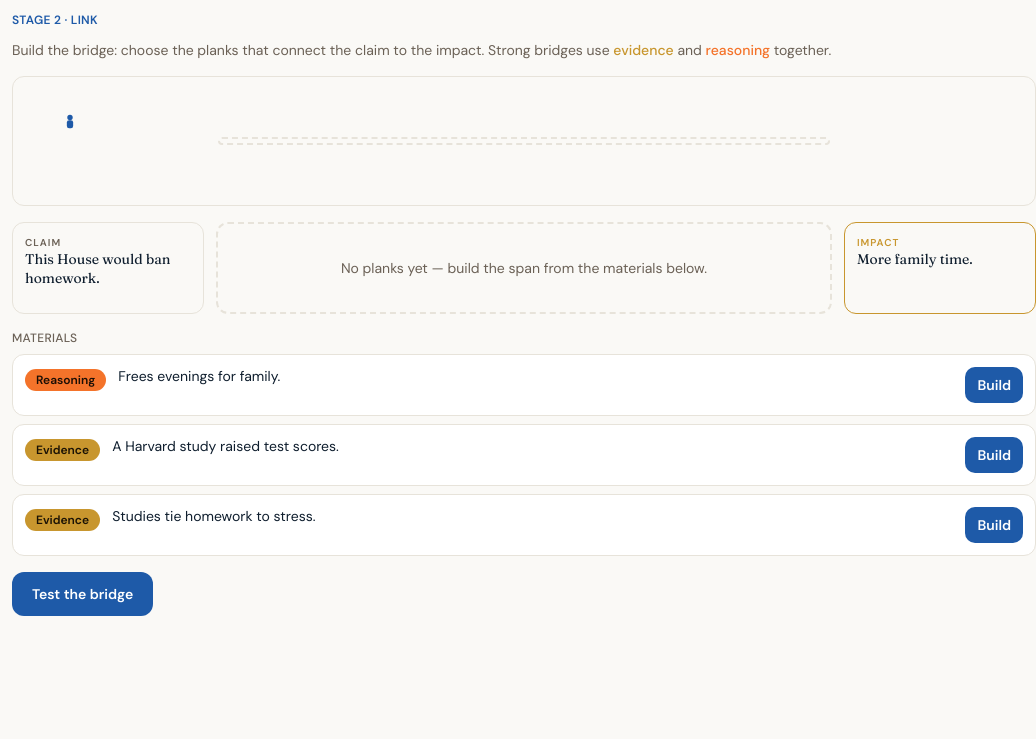
LinkCard › surfaces a coach reaction from 'talk this through' after testing
Click the button "Build" in the row of "A Harvard study raised test scores." at (994, 455), box [966, 437, 1023, 473]
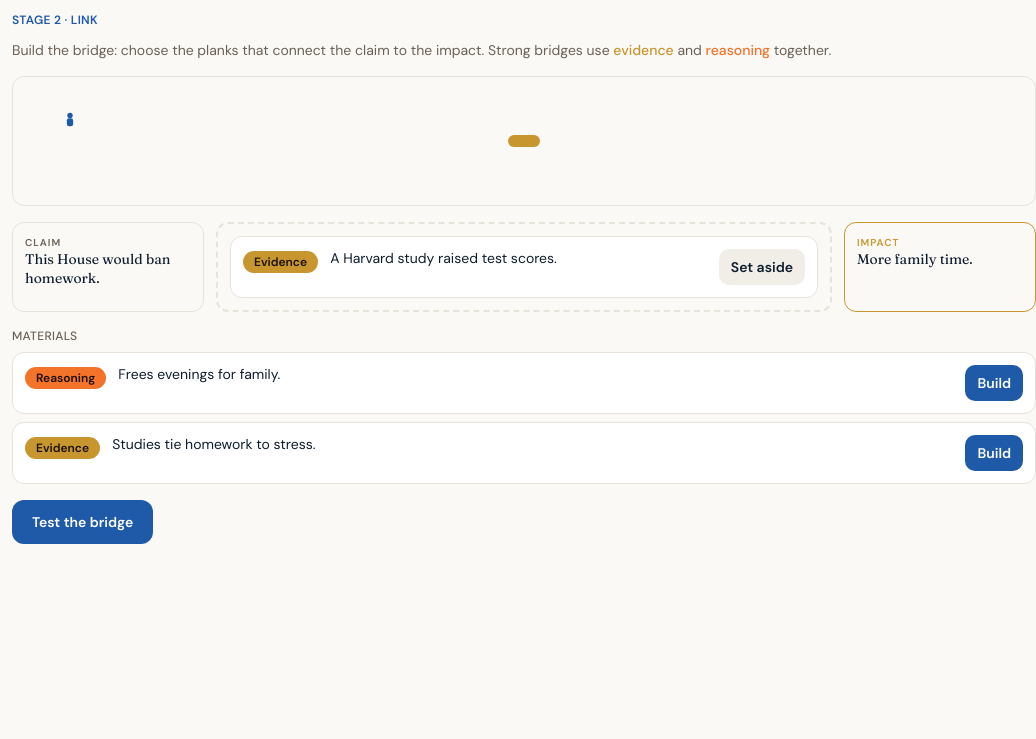
Click the button "Test the bridge" at (83, 522), box [12, 500, 153, 544]
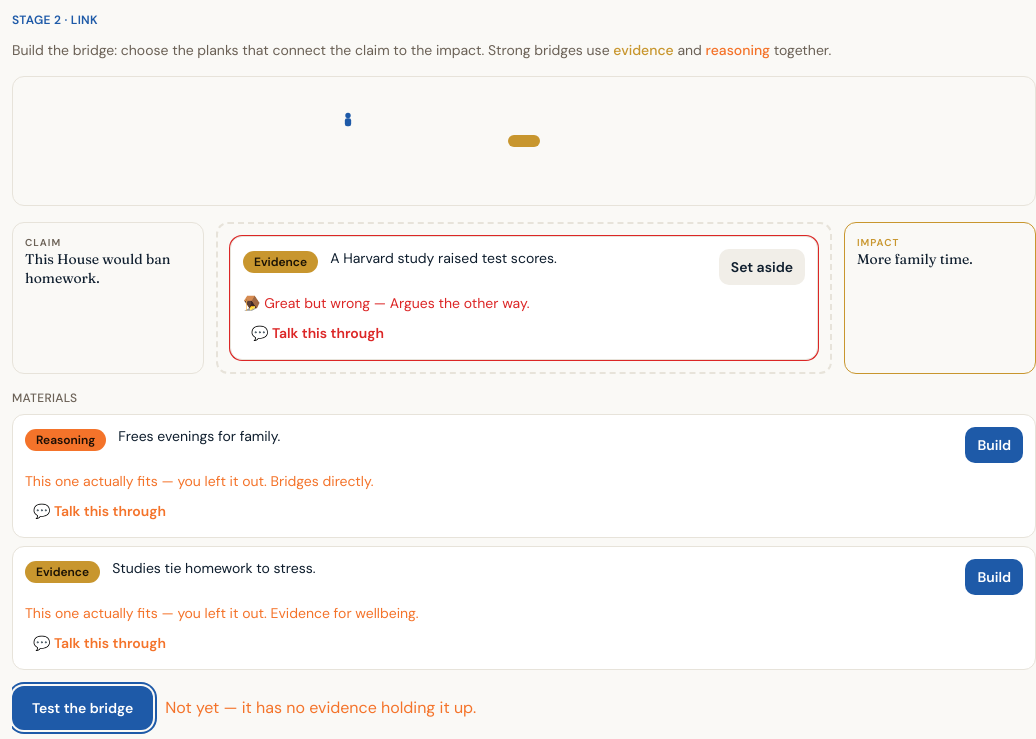
Click the button "💬 Talk this through" below "A Harvard study raised test scores." at (317, 333), box [243, 319, 392, 347]
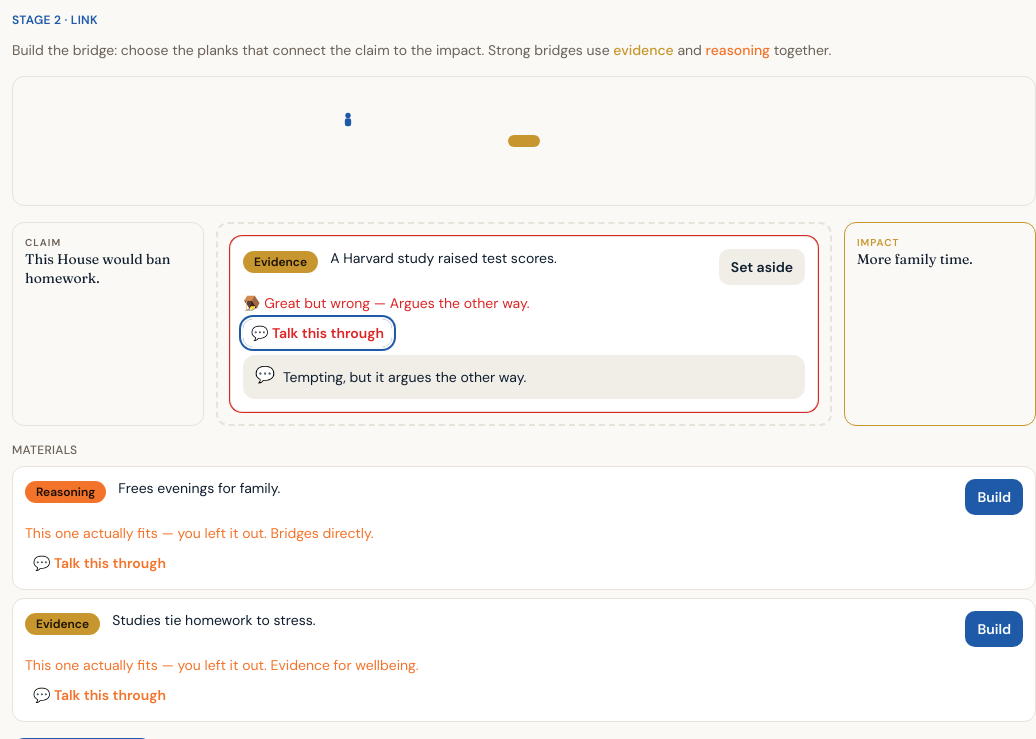
Result: the text "Tempting, but it argues the other way." is shown at [283, 368, 526, 386]
